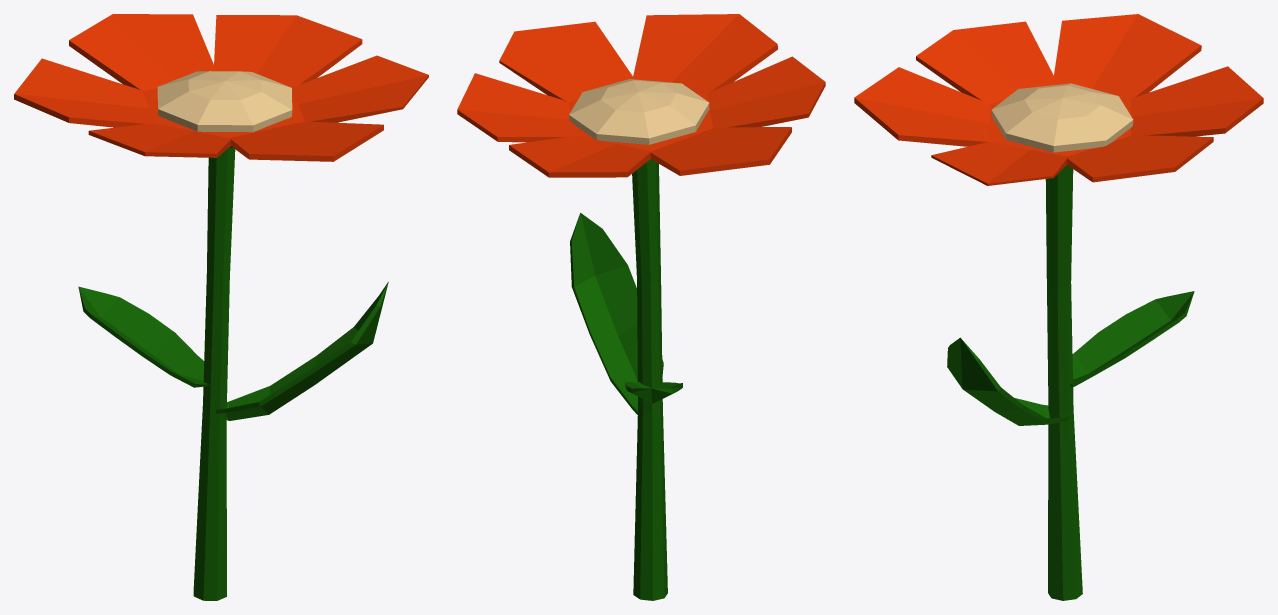
The model's file is flower-3.glb.
3 renders of one model, left to right at view 1: azimuth 30°, elevation 25°; view 2: azimuth 150°, elevation 25°; view 3: azimuth 270°, elevation 25°, orthographic. The views are drawn at different scales.
Parts seen in each view (by area): view 1: Flower 3; view 2: Flower 3; view 3: Flower 3.
Boxes of the visible parts, x1,y1,x2,y2 form: Flower 3: (14,14,428,600); Flower 3: (457,14,825,600); Flower 3: (854,14,1263,600).
Size of the model in its own units: 1.17 by 1.69 by 1.24.
